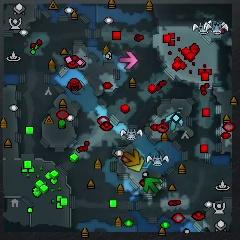x1: (119, 51, 137, 69)
x2: (128, 156, 145, 172)
x3: (165, 113, 183, 132)
x4: (144, 178, 161, 195)
x5: (125, 151, 140, 168)
